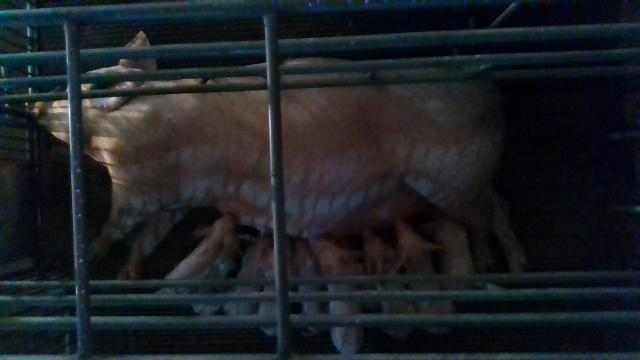piglet: (394, 222, 457, 332), (310, 240, 364, 352), (158, 215, 235, 292), (364, 227, 418, 336), (223, 232, 271, 313), (424, 213, 472, 286), (295, 240, 326, 333)
sow-sleep-lactate: (32, 31, 530, 272)
